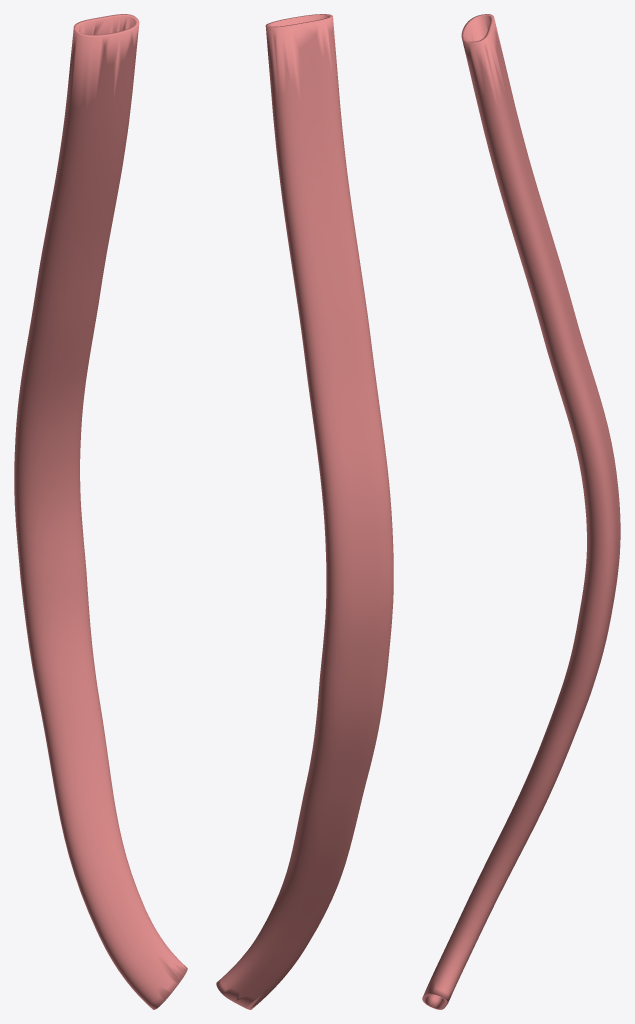
The model's file is visceras-oesophagus.glb.
The picture shows the model from 3 angles, left to right: view 1: azimuth 30°, elevation 25°; view 2: azimuth 210°, elevation 25°; view 3: azimuth 270°, elevation 25°; orthographic projection. The views are drawn at different scales.
Visible parts, largest first — view 1: Oesophagus; view 2: Oesophagus; view 3: Oesophagus.
Boxes of the visible parts, <box> form: Oesophagus: <box>14,14,187,1009</box>; Oesophagus: <box>216,14,393,1009</box>; Oesophagus: <box>422,14,620,1009</box>.
Size of the model in its own units: 0.0273 by 0.2815 by 0.0521.
